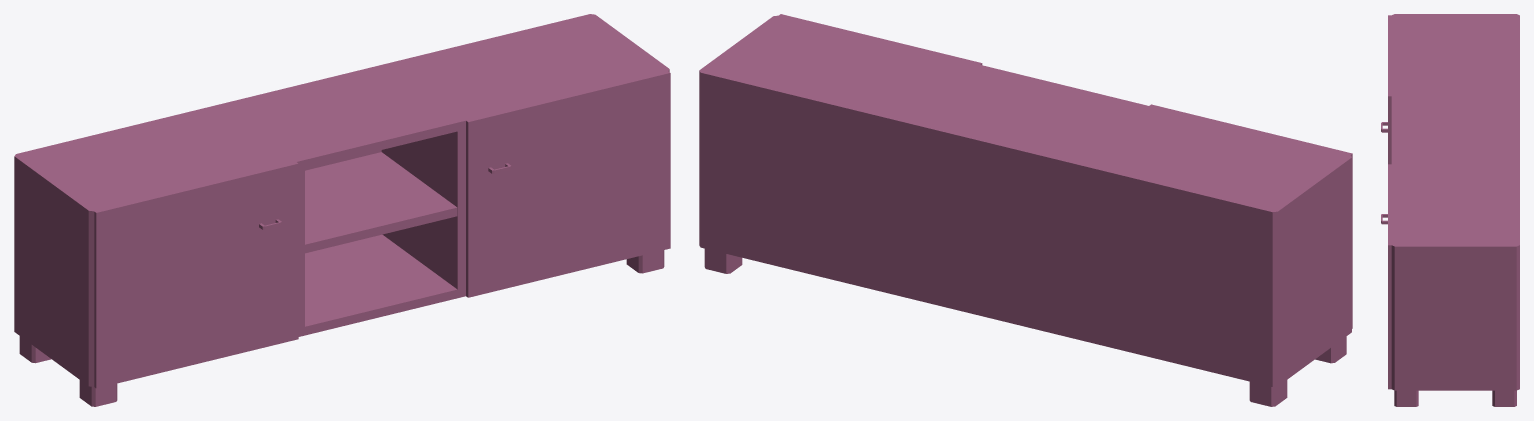
Rendered from TVStand.fbx.
The picture shows the model from 3 angles, left to right: view 1: azimuth 30°, elevation 25°; view 2: azimuth 150°, elevation 25°; view 3: azimuth 270°, elevation 25°; orthographic projection. The views are drawn at different scales.
Visible parts, largest first — view 1: tvStandBase, tvStandDoor_R, tvStandDoor_L; view 2: tvStandBase, tvStandDoor_R; view 3: tvStandBase, tvStandDoor_L, tvStandDoor_R.
Part boxes in pixels (left/top/right/bottom): tvStandBase: left=14, top=14, right=669, bottom=406; tvStandDoor_R: left=94, top=162, right=298, bottom=388; tvStandDoor_L: left=466, top=71, right=670, bottom=297; tvStandBase: left=699, top=15, right=1351, bottom=406; tvStandDoor_R: left=1149, top=104, right=1352, bottom=328; tvStandBase: left=1391, top=14, right=1519, bottom=406; tvStandDoor_L: left=1381, top=164, right=1391, bottom=389; tvStandDoor_R: left=1381, top=15, right=1391, bottom=164.
Bounding box in the file's own units: 180 × 58.52 × 45.41.
